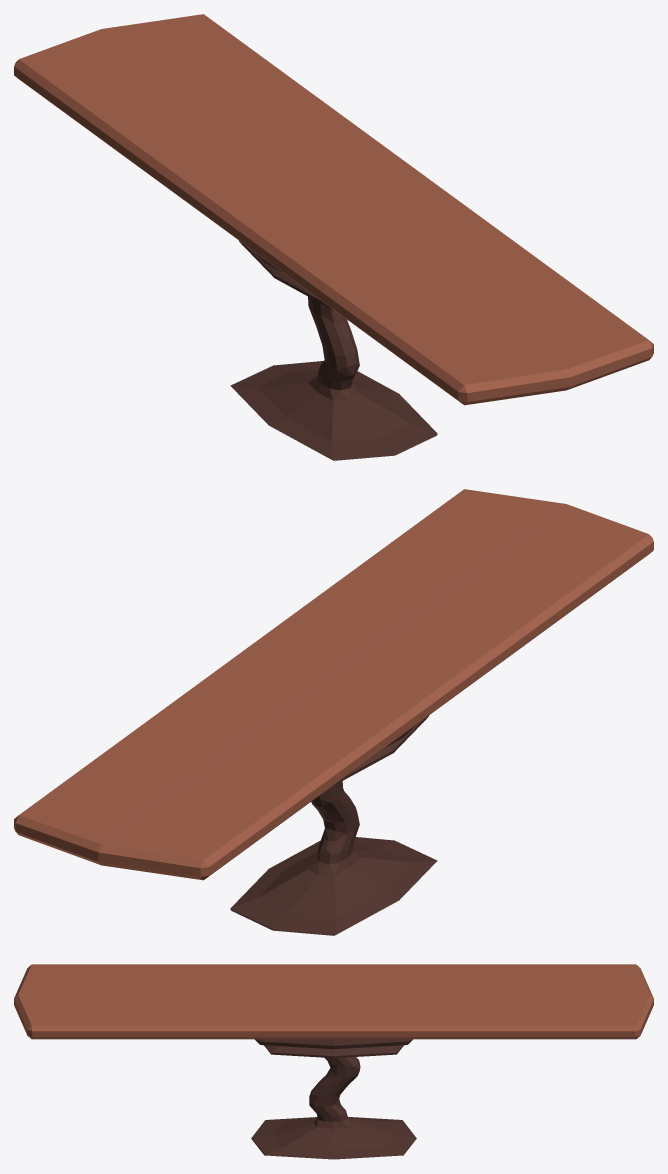
File: tableB.glb
The picture shows the model from 3 angles, top to bottom: view 1: azimuth 30°, elevation 25°; view 2: azimuth 150°, elevation 25°; view 3: azimuth 270°, elevation 25°; orthographic projection. The views are drawn at different scales.
Parts seen in each view (by area): view 1: Cube.006; view 2: Cube.006; view 3: Cube.006.
Part boxes in pixels (x1,y1,x2,y2): Cube.006: [14, 14, 653, 460]; Cube.006: [14, 489, 653, 935]; Cube.006: [14, 964, 653, 1159].
Size of the model in its own units: 4.85 by 5.02 by 20.25.
